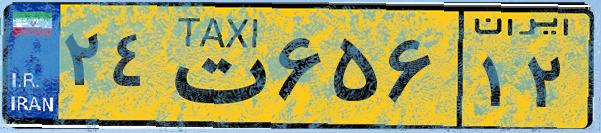1: (475, 38, 525, 113)
2: (57, 26, 110, 100), (525, 38, 570, 115)
4: (110, 28, 158, 98)
5: (330, 28, 385, 110)
6: (270, 28, 330, 110), (385, 28, 445, 110)
ت: (158, 12, 270, 120)
